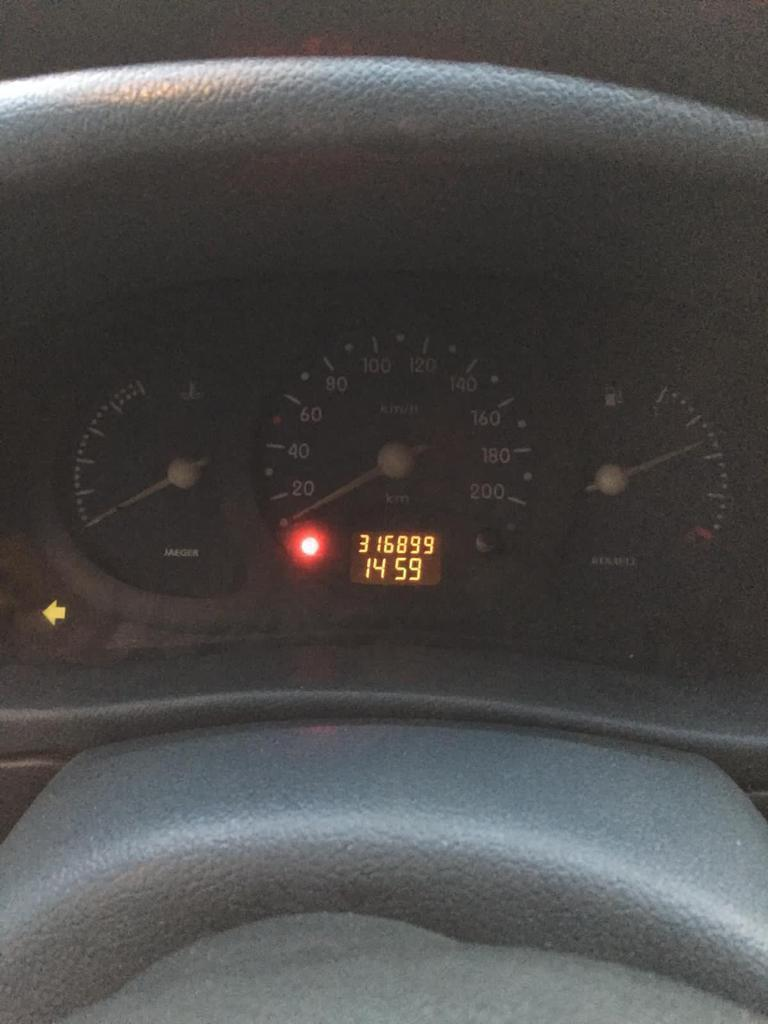1: (364, 556, 371, 579), (375, 534, 382, 552)
3: (357, 533, 369, 553)
4: (372, 556, 385, 579)
5: (392, 556, 406, 581)
6: (383, 534, 394, 553)
8: (395, 534, 408, 554)
9: (409, 557, 422, 580), (409, 534, 421, 554), (422, 534, 434, 554)
odometer: (344, 525, 449, 592)
